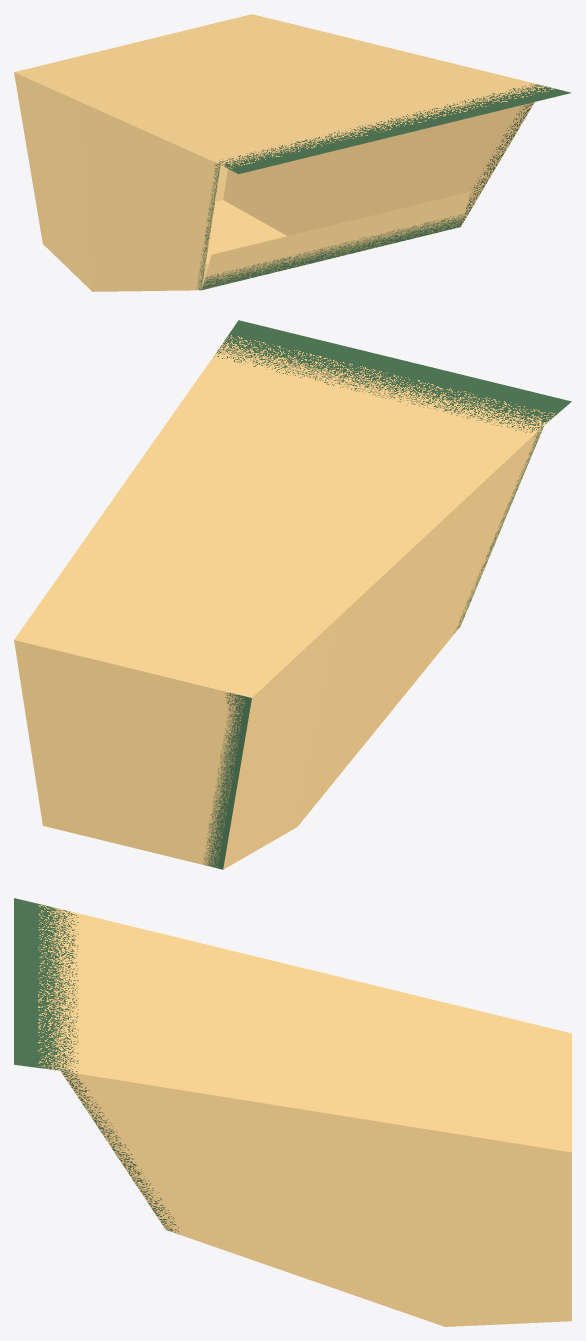
The model's file is mdl_penny_press_emissive.gltf.
3 renders of one model, top to bottom at view 1: azimuth 30°, elevation 25°; view 2: azimuth 150°, elevation 25°; view 3: azimuth 270°, elevation 25°, orthographic. The views are drawn at different scales.
Parts seen in each view (by area): view 1: Emissive; view 2: Emissive; view 3: Emissive.
Boxes of the visible parts, x1,y1,x2,y2 form: Emissive: [14, 14, 571, 291]; Emissive: [14, 320, 571, 869]; Emissive: [14, 898, 571, 1326].
Size of what is drawn, in the model's own units: 0.1094 by 0.0902 by 0.1547.
Materials: 1 (1 with a texture image).
